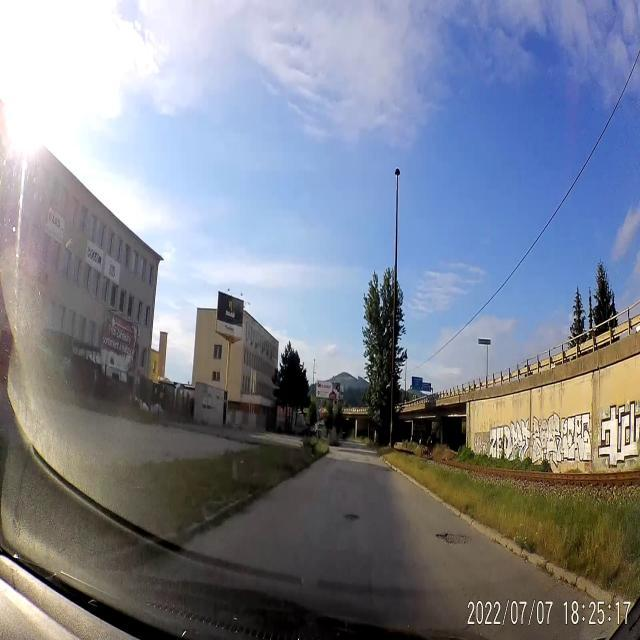Pothole: (437, 520, 473, 550), (342, 506, 360, 524)
